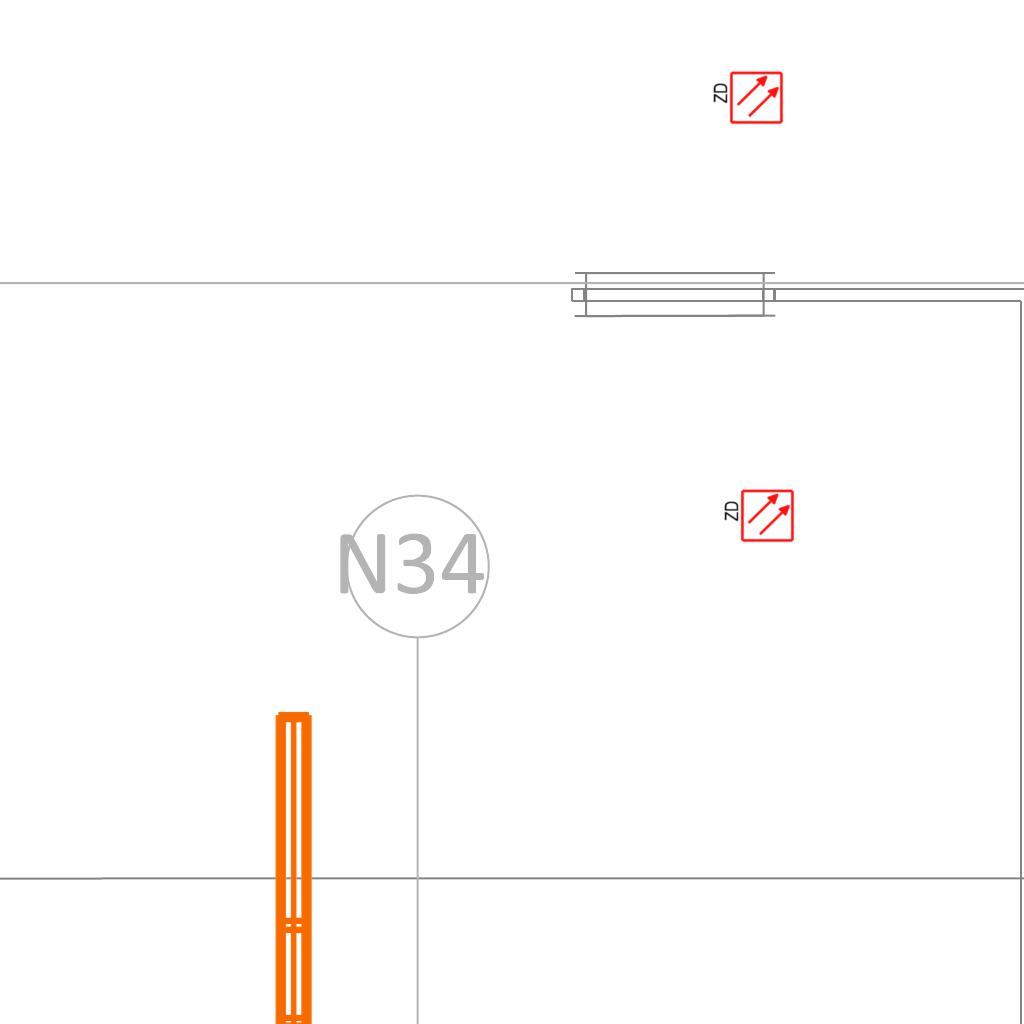Ambulanz_Pendelleuchte_LED: (263, 701, 375, 1024)
ZD_Melder_in_Zwischendecke_mit_Revisionsoeffnung_mind_40_x_40_cm: (710, 70, 784, 127), (721, 488, 795, 545)
